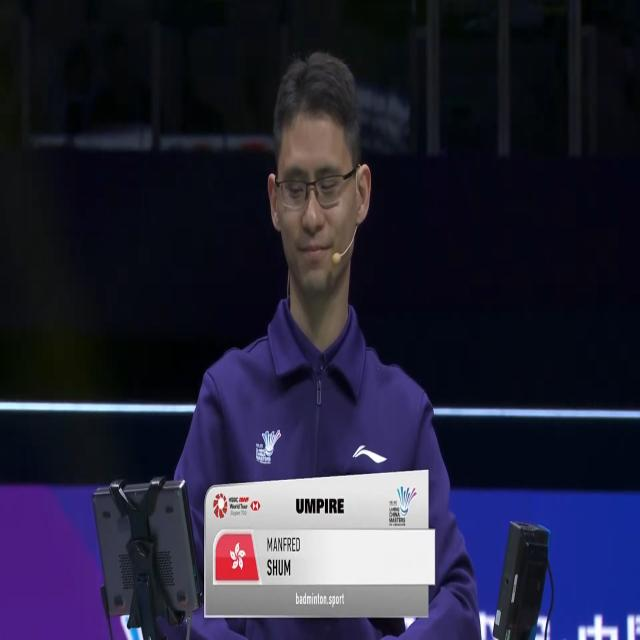referee: (142, 10, 492, 622)
